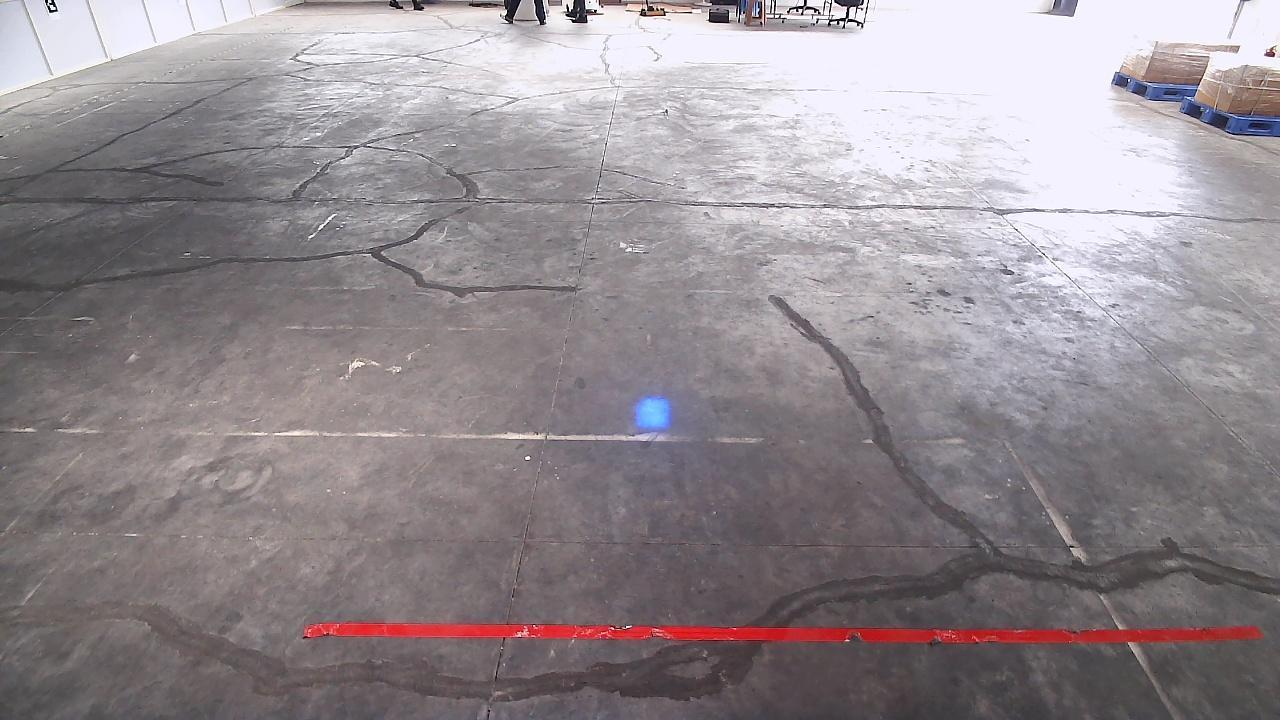red_line: (302, 610, 1276, 649)
